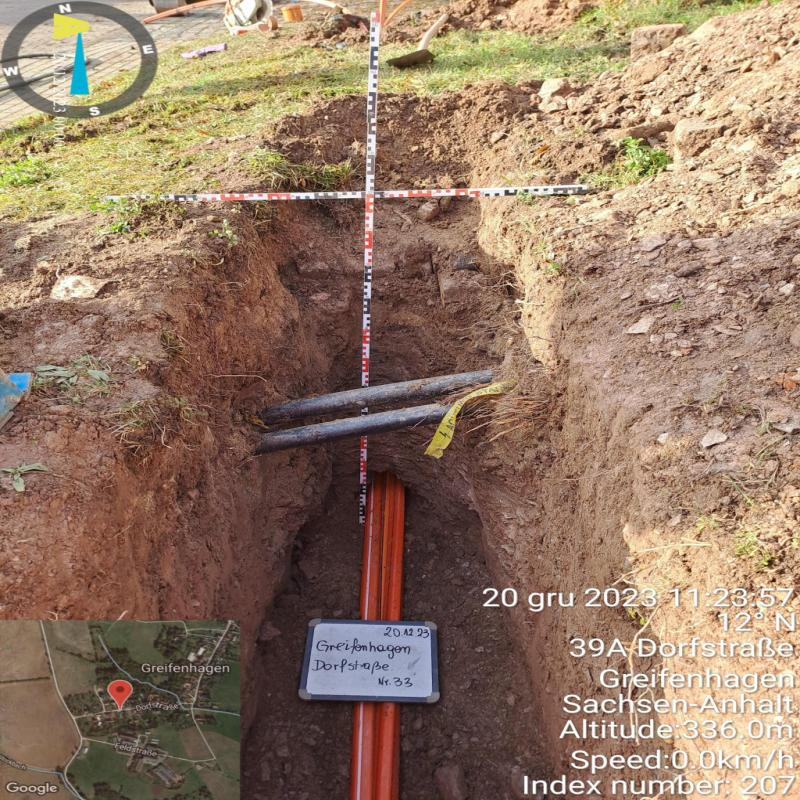Orang-Speednetrohrchen: (363, 472, 404, 621), (353, 704, 399, 800)
